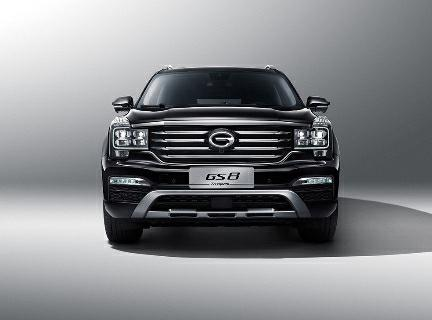广汽传祺-传祺GA5: (97, 63, 345, 250)
